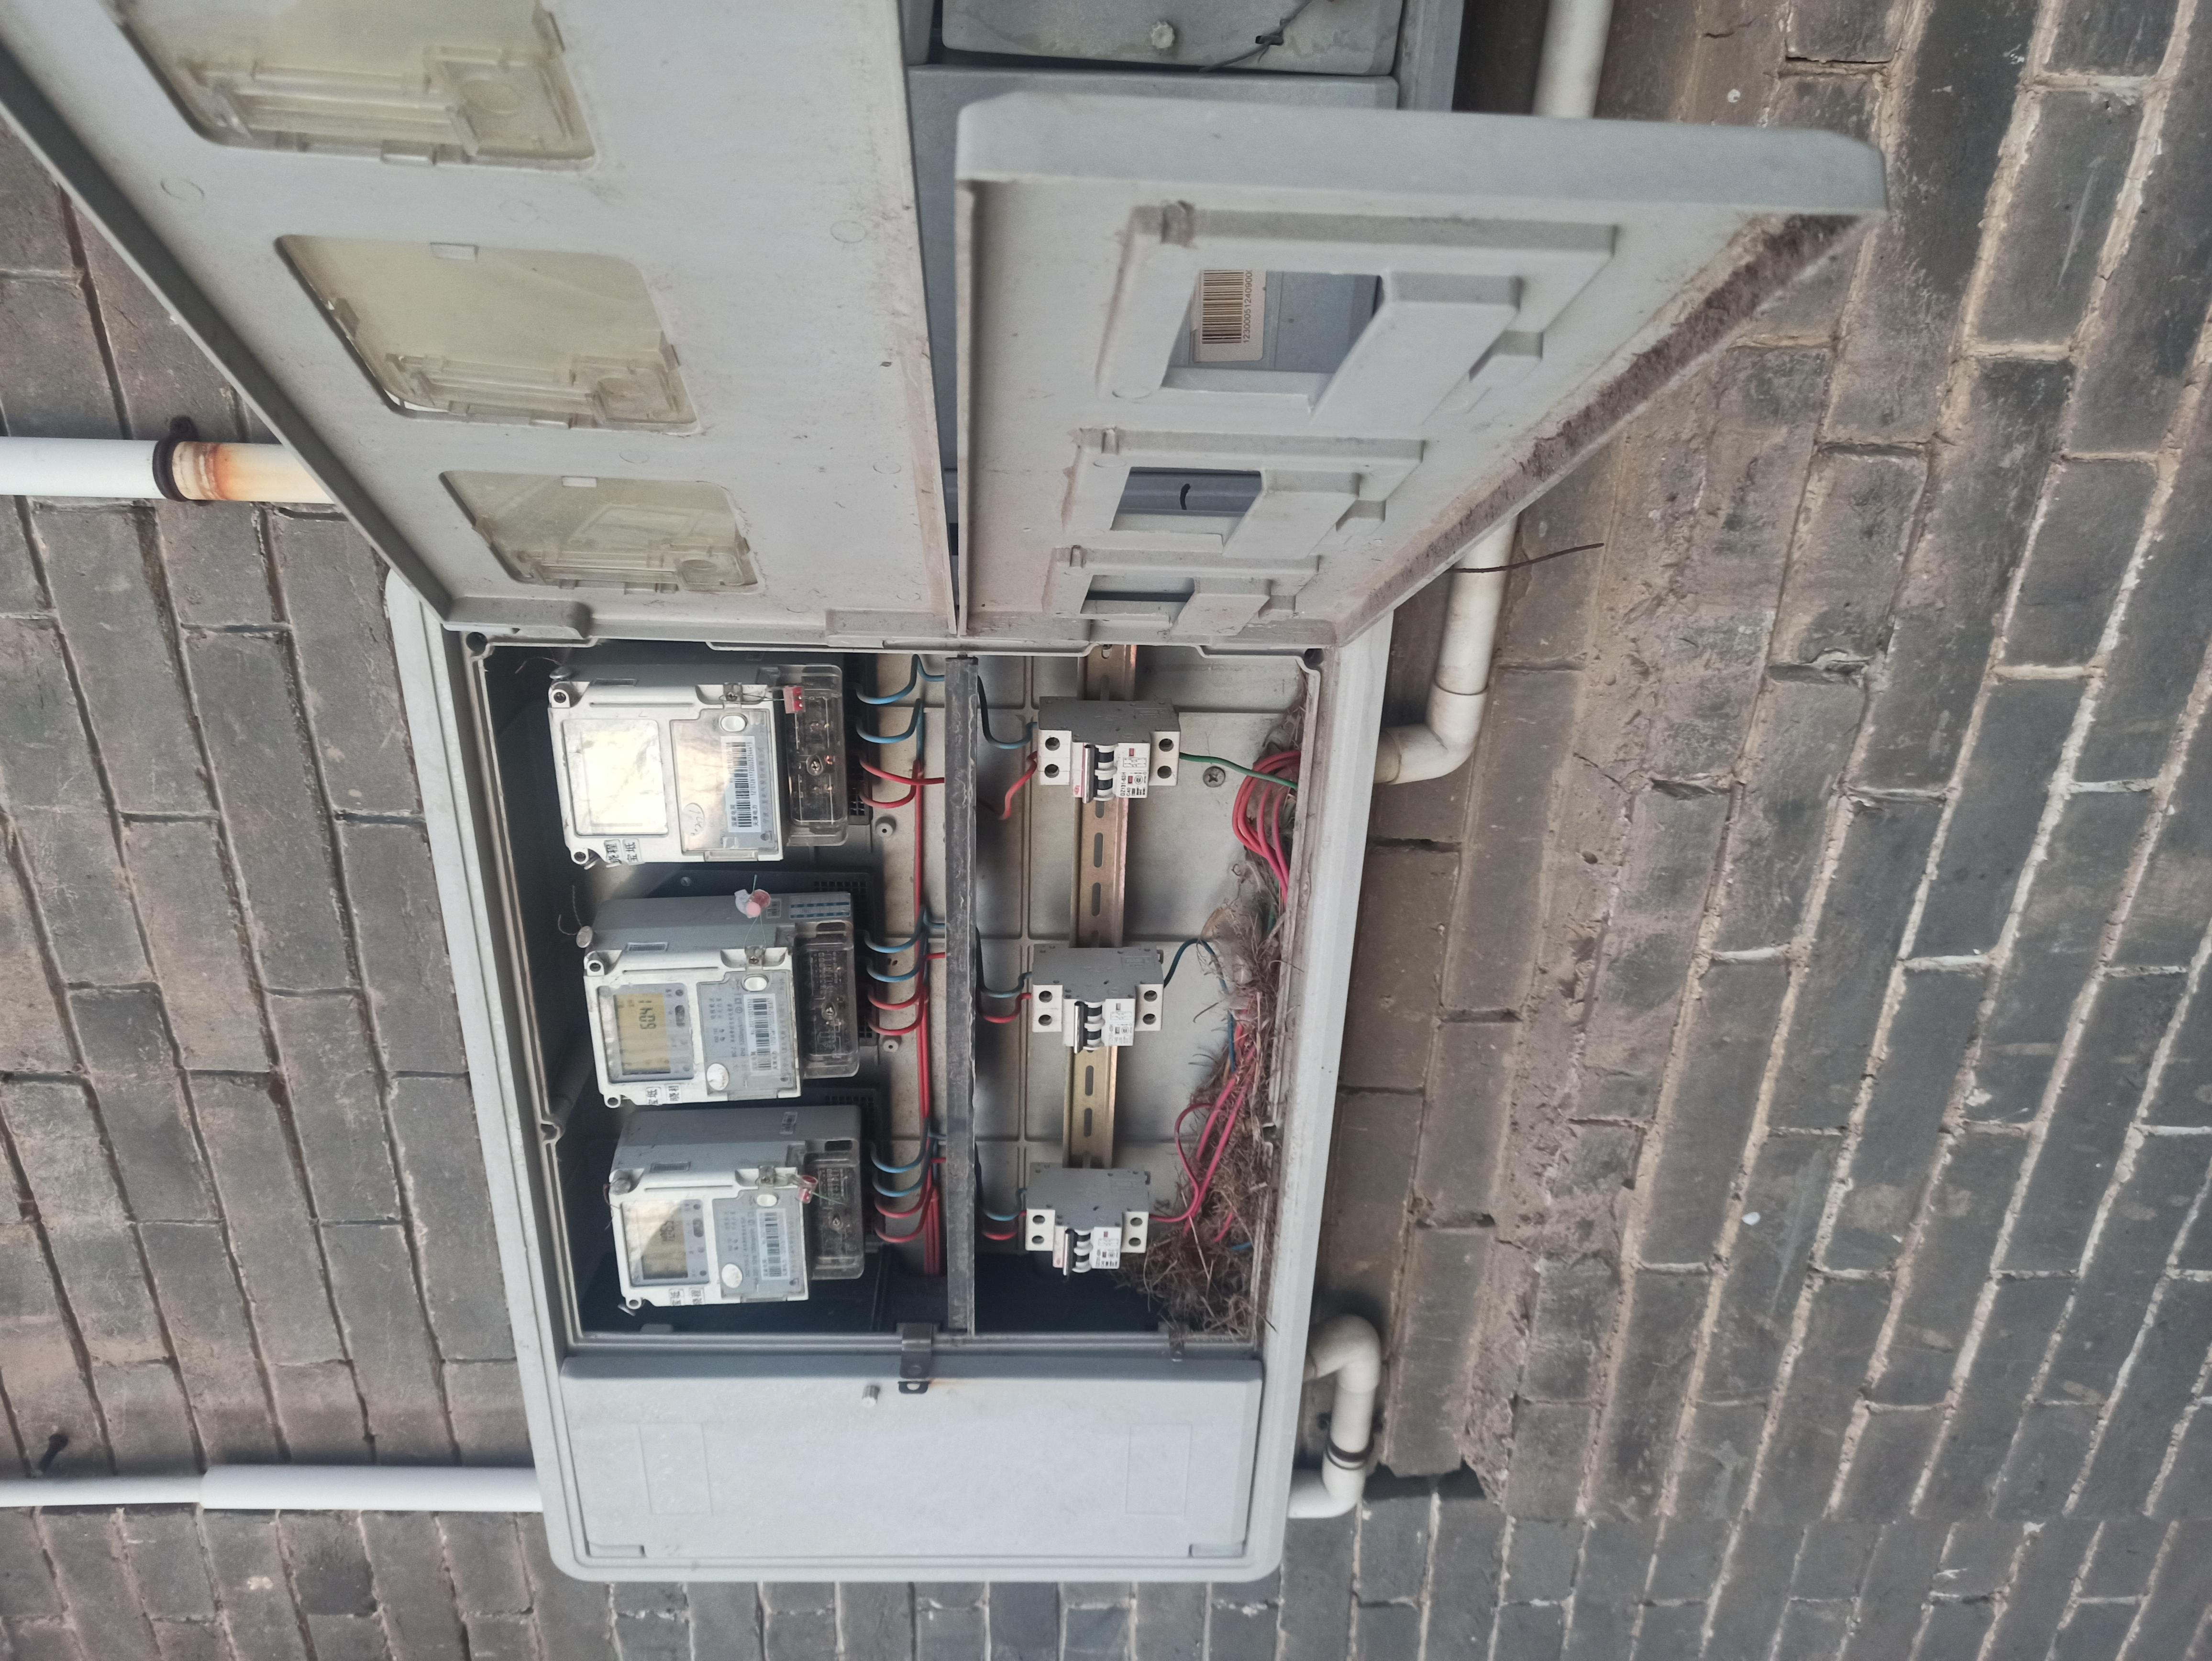digital: (546, 686, 780, 864), (584, 961, 801, 1104), (607, 1172, 808, 1309)
